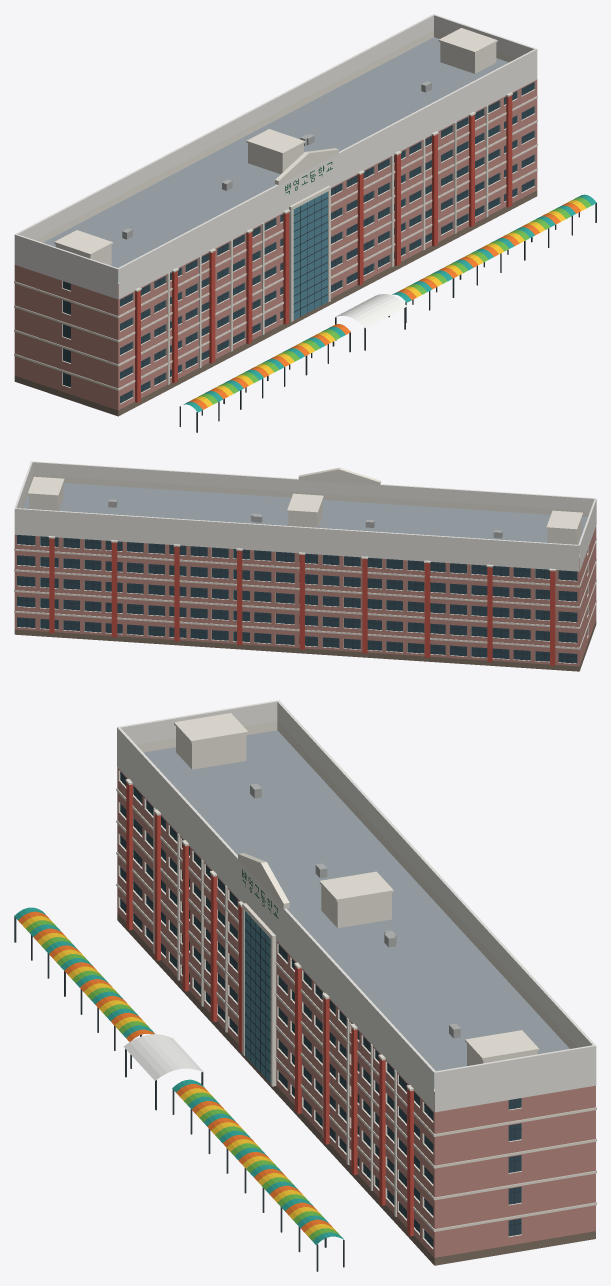
The picture shows the model from 3 angles, top to bottom: view 1: azimuth 30°, elevation 25°; view 2: azimuth 150°, elevation 25°; view 3: azimuth 270°, elevation 25°; orthographic projection. The views are drawn at different scales.
Visible parts, largest first — view 1: wing1__brick, wing1__panel-plaster, wing1__trim-concrete, wing1__roof, wing1__glass, wing1__pilaster-rib, wing1__bay-glass, wing1__base-stone, wing1__frame, wing1__stripe-roof-0, wing1__stripe-roof-1, wing1__stripe-roof-2 (+3 smaller); view 2: wing1__brick, wing1__panel-plaster, wing1__glass, wing1__trim-concrete, wing1__roof, wing1__pilaster-rib, wing1__base-stone, wing1__frame, wing1__equipment; view 3: wing1__brick, wing1__roof, wing1__panel-plaster, wing1__trim-concrete, wing1__pilaster-rib, wing1__glass, wing1__bay-glass, wing1__base-stone, wing1__frame, wing1__stripe-roof-0, wing1__stripe-roof-1, wing1__stripe-roof-3 (+3 smaller).
Part boxes in pixels (box(x1,y1,x2,y2)): wing1__brick: box(14, 79, 537, 410); wing1__panel-plaster: box(14, 14, 537, 299); wing1__trim-concrete: box(14, 28, 537, 404); wing1__roof: box(43, 37, 508, 282); wing1__glass: box(63, 82, 534, 403); wing1__pilaster-rib: box(135, 95, 512, 402); wing1__bay-glass: box(293, 191, 327, 319); wing1__base-stone: box(14, 190, 537, 416); wing1__frame: box(63, 84, 596, 432); wing1__stripe-roof-0: box(183, 194, 596, 412); wing1__stripe-roof-1: box(187, 202, 580, 409); wing1__stripe-roof-2: box(193, 200, 586, 407); wing1__brick: box(14, 526, 596, 666); wing1__panel-plaster: box(14, 461, 596, 571); wing1__glass: box(17, 535, 587, 663); wing1__trim-concrete: box(14, 467, 596, 663); wing1__roof: box(23, 483, 587, 552); wing1__pilaster-rib: box(49, 538, 555, 666); wing1__base-stone: box(14, 620, 596, 671); wing1__frame: box(17, 535, 587, 662); wing1__equipment: box(108, 499, 502, 538); wing1__brick: box(117, 767, 595, 1257); wing1__roof: box(143, 730, 569, 1088); wing1__panel-plaster: box(117, 700, 596, 1112); wing1__trim-concrete: box(116, 713, 596, 1249); wing1__pilaster-rib: box(126, 782, 413, 1236); wing1__glass: box(120, 772, 521, 1247); wing1__bay-glass: box(245, 911, 270, 1083); wing1__base-stone: box(117, 913, 595, 1265); wing1__frame: box(14, 773, 521, 1271); wing1__stripe-roof-0: box(14, 907, 343, 1244); wing1__stripe-roof-1: box(18, 911, 332, 1232); wing1__stripe-roof-3: box(26, 920, 340, 1240).
Bounding box in the file's own units: 93.13 × 24.35 × 60.03.
